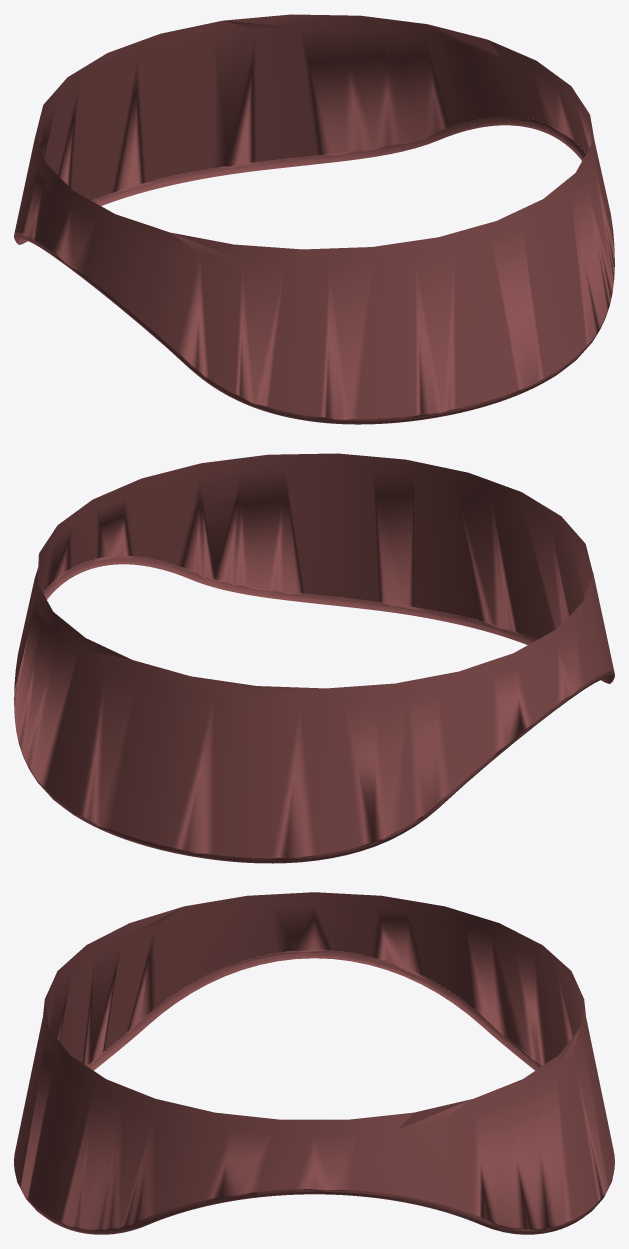
The model's file is original-2.obj.
3 views of the same model, one above another, from view 1: azimuth 30°, elevation 25°; view 2: azimuth 150°, elevation 25°; view 3: azimuth 270°, elevation 25° (orthographic). The views are drawn at different scales.
Parts seen in each view (by area): view 1: mesh1/mesh1-geometry#mesh1-geometry; view 2: mesh1/mesh1-geometry#mesh1-geometry; view 3: mesh1/mesh1-geometry#mesh1-geometry.
Part boxes in pixels (<box>): mesh1/mesh1-geometry#mesh1-geometry: <box>14,14,614,424</box>; mesh1/mesh1-geometry#mesh1-geometry: <box>14,453,614,863</box>; mesh1/mesh1-geometry#mesh1-geometry: <box>14,892,614,1234</box>.
Bounding box in the file's own units: 0.4547 × 0.1441 × 0.4828.
